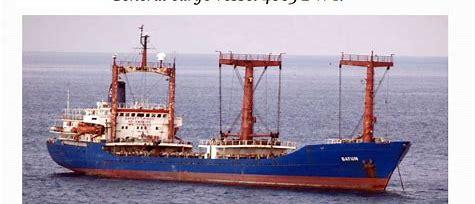Ship: (43, 38, 414, 197)
